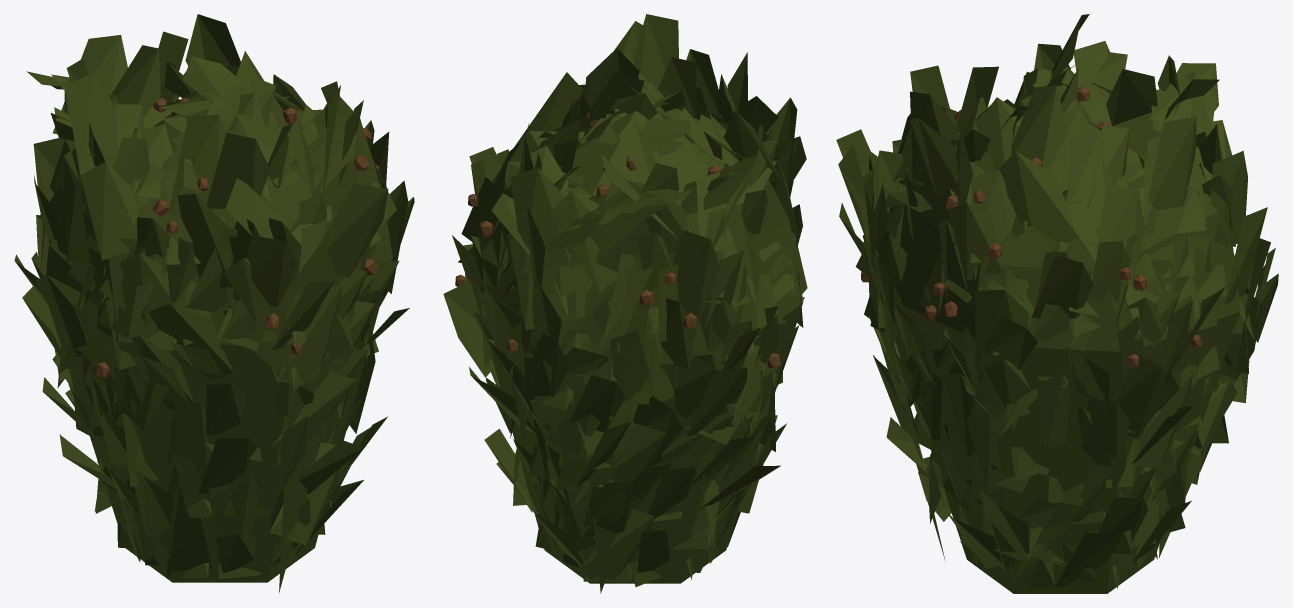
Rendered from SM_Bush_Yew_Mature_B.fbx.
The picture shows the model from 3 angles, left to right: view 1: azimuth 30°, elevation 25°; view 2: azimuth 150°, elevation 25°; view 3: azimuth 270°, elevation 25°; orthographic projection. The views are drawn at different scales.
Parts seen in each view (by area): view 1: bush-yew-mature-b; view 2: bush-yew-mature-b; view 3: bush-yew-mature-b.
Boxes of the visible parts, left/top/right/bottom form: bush-yew-mature-b: left=14, top=14, right=414, bottom=592; bush-yew-mature-b: left=443, top=14, right=807, bottom=593; bush-yew-mature-b: left=836, top=14, right=1278, bottom=593.
Bounding box in the file's own units: 1.13 × 1.58 × 1.28.
